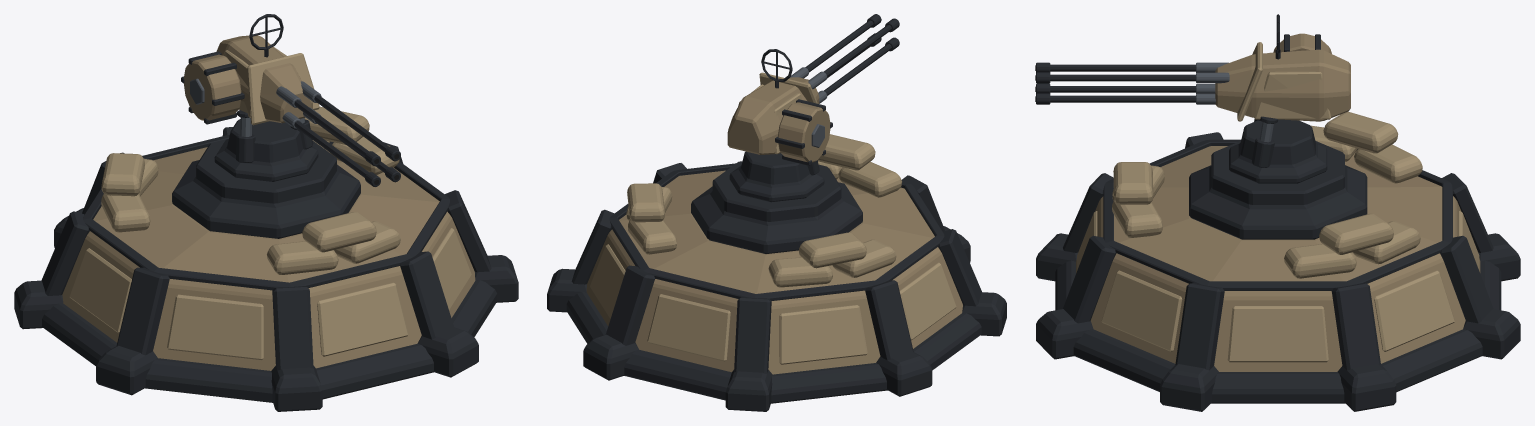
Rendered from aa3-halcon-n3.glb.
3 renders of one model, left to right at view 1: azimuth 30°, elevation 25°; view 2: azimuth 150°, elevation 25°; view 3: azimuth 270°, elevation 25°, orthographic. The views are drawn at different scales.
Parts seen in each view (by area): view 1: casco, gun_pitch, turret_yaw; view 2: casco, gun_pitch, turret_yaw; view 3: casco, gun_pitch, turret_yaw.
Boxes of the visible parts, left/top/right/bottom form: casco: left=14, top=106, right=518, bottom=411; gun_pitch: left=181, top=14, right=400, bottom=186; turret_yaw: left=214, top=110, right=318, bottom=181; casco: left=547, top=134, right=1006, bottom=411; gun_pitch: left=727, top=14, right=899, bottom=165; turret_yaw: left=729, top=151, right=824, bottom=202; casco: left=1036, top=111, right=1520, bottom=411; gun_pitch: left=1035, top=14, right=1350, bottom=121; turret_yaw: left=1229, top=116, right=1327, bottom=183.
Bounding box in the file's own units: 1 × 0.6714 × 1.
